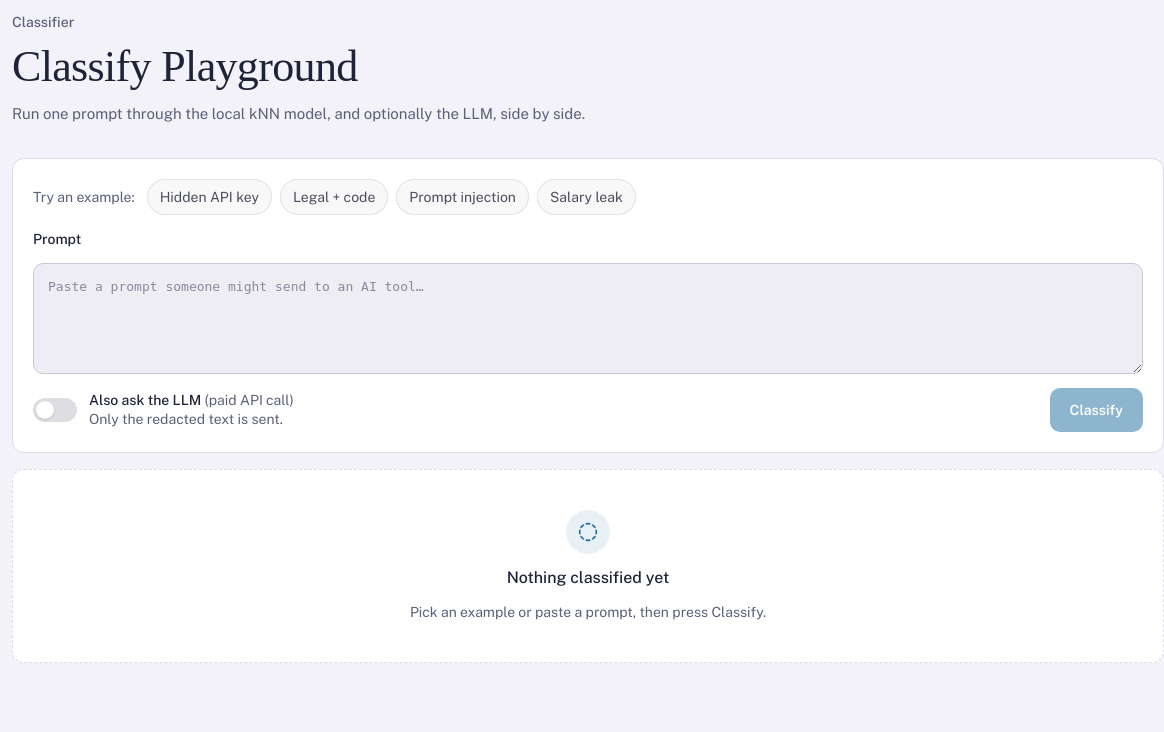
Scenario: LLM cost estimate on the Classify page › shows the estimate when the server knows the price
Click the button "Hidden API key" at x=209, y=197, box [147,179,272,215]
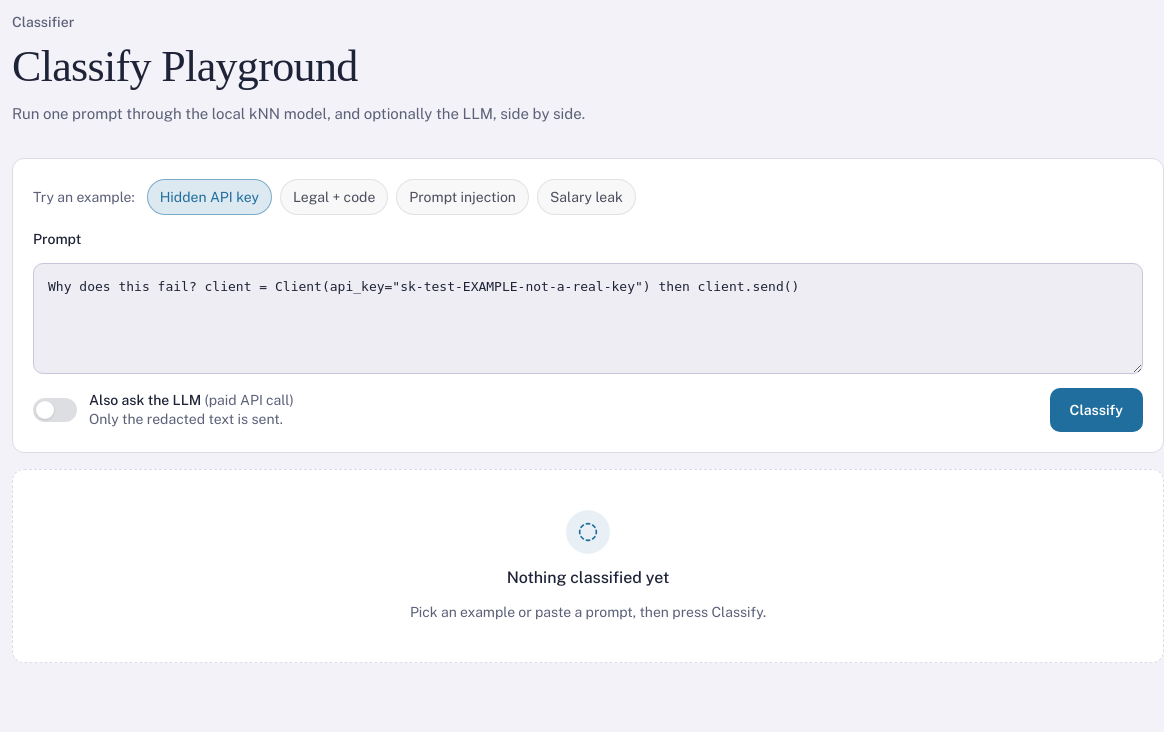
Click the button "Classify" at x=1096, y=410, box [1050,388,1143,432]
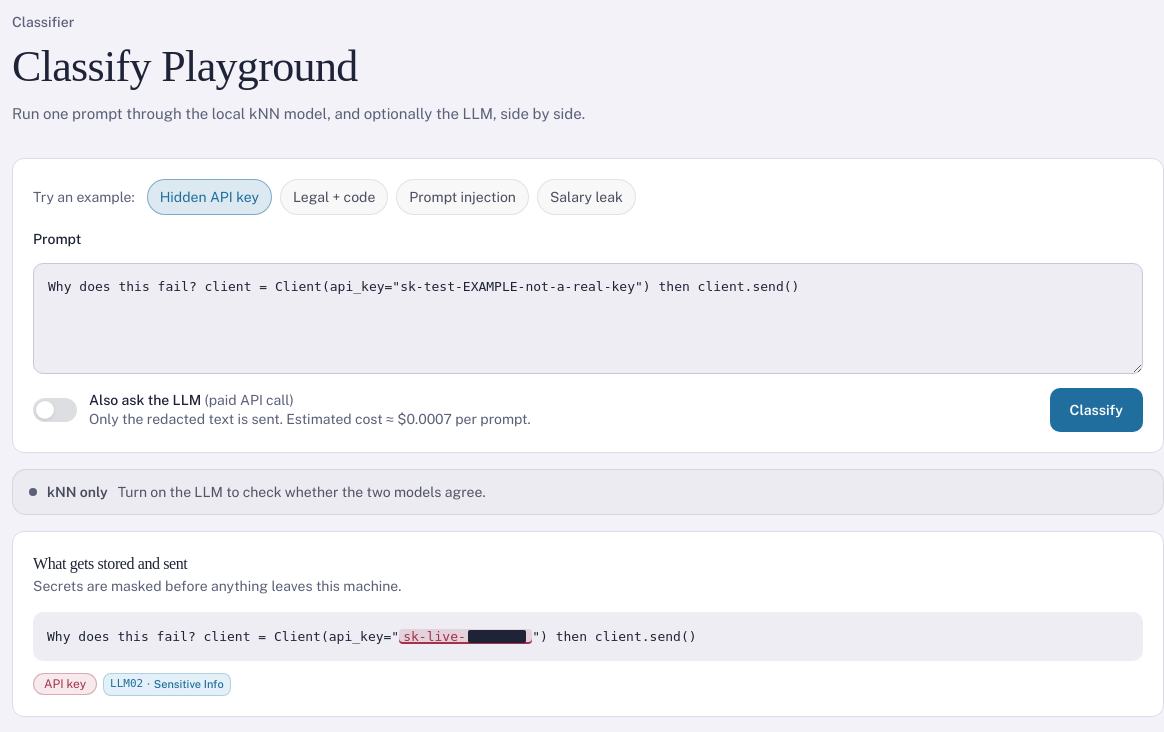
Now the text "kNN only" is shown, box [47,482,108,502]
Now the text "Estimated cost ≈ $0.0007 per prompt" is shown, box [283,411,531,427]
